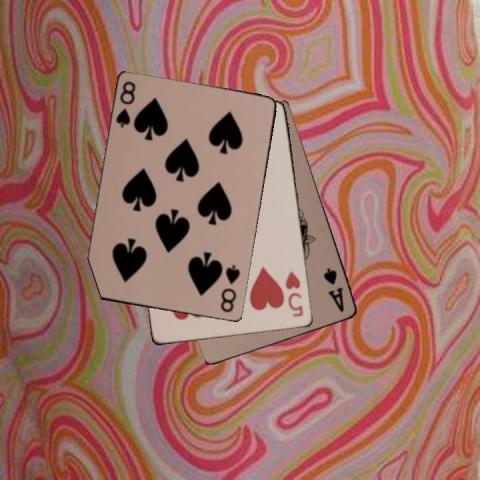5h: (282, 268, 304, 319)
8s: (217, 262, 242, 314), (114, 79, 138, 129)
As: (321, 265, 346, 314)
